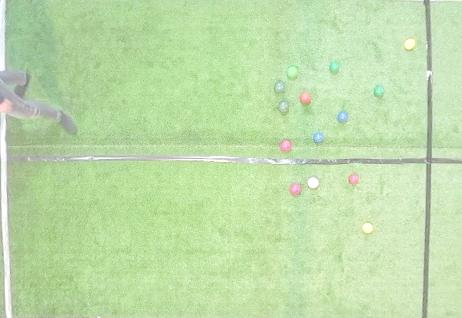blue: (337, 111, 348, 123), (313, 132, 324, 143)
green: (274, 81, 285, 93), (287, 66, 298, 78), (278, 101, 289, 112), (329, 62, 340, 73), (374, 85, 384, 97)
red: (280, 140, 292, 152), (300, 92, 311, 104), (290, 184, 301, 195), (308, 177, 319, 188), (348, 174, 359, 184)
vline: (421, 1, 462, 317), (0, 112, 14, 317), (0, 1, 8, 70)
white: (97, 316, 103, 317)
yellow: (404, 39, 415, 50), (362, 223, 373, 233)
